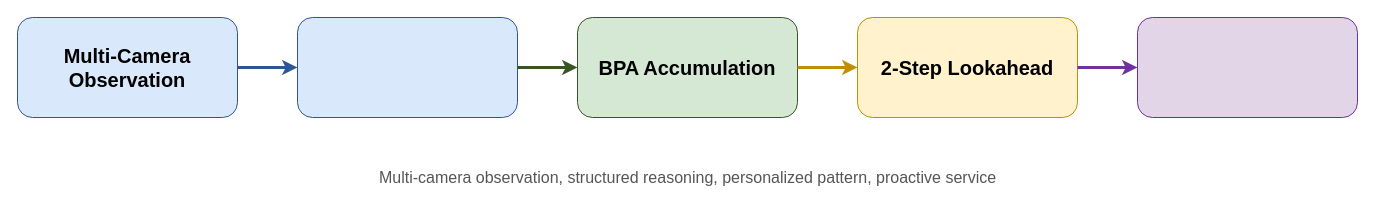
Image size: 1375x215. Some labels were removed from this diagram. Each missing label, with the centre of its shape:
"LLM Semantic Reasoning" goes at (x=407, y=67).
"Service Suggestion" goes at (x=1247, y=67).
